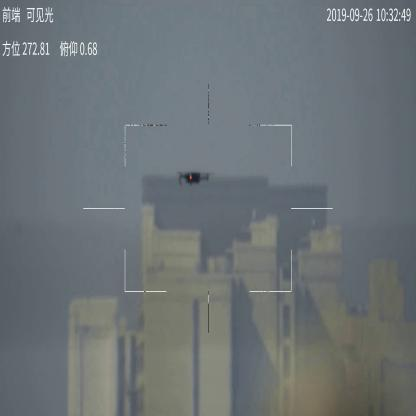uav: (171, 165, 215, 187)
